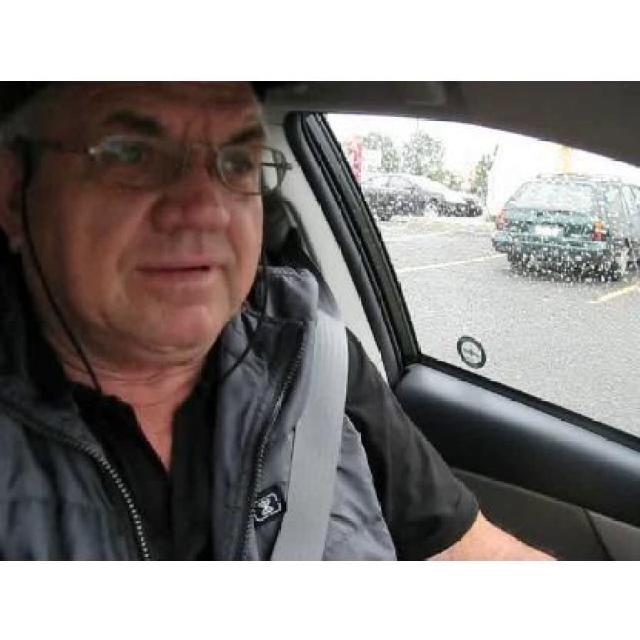attentif: (0, 80, 265, 351)
